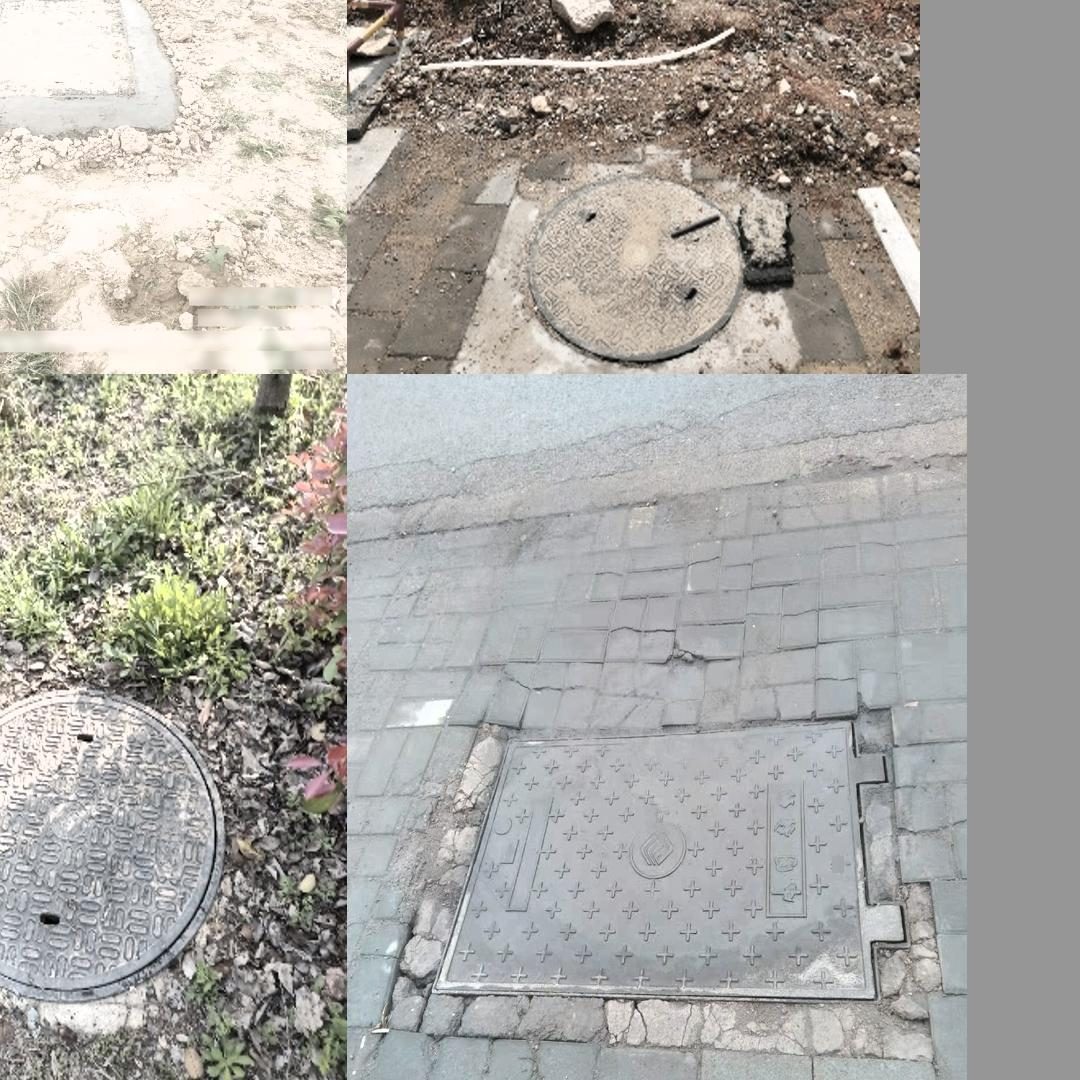good: (431, 719, 910, 995), (0, 691, 222, 1000), (518, 180, 741, 351), (0, 0, 141, 112)
